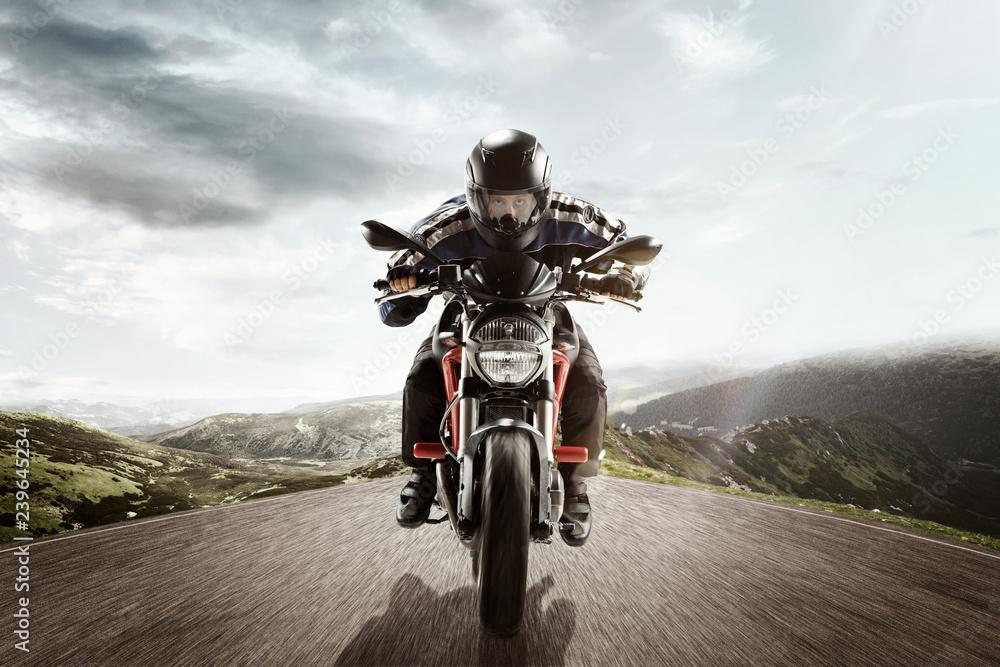helmet: (464, 128, 553, 255)
